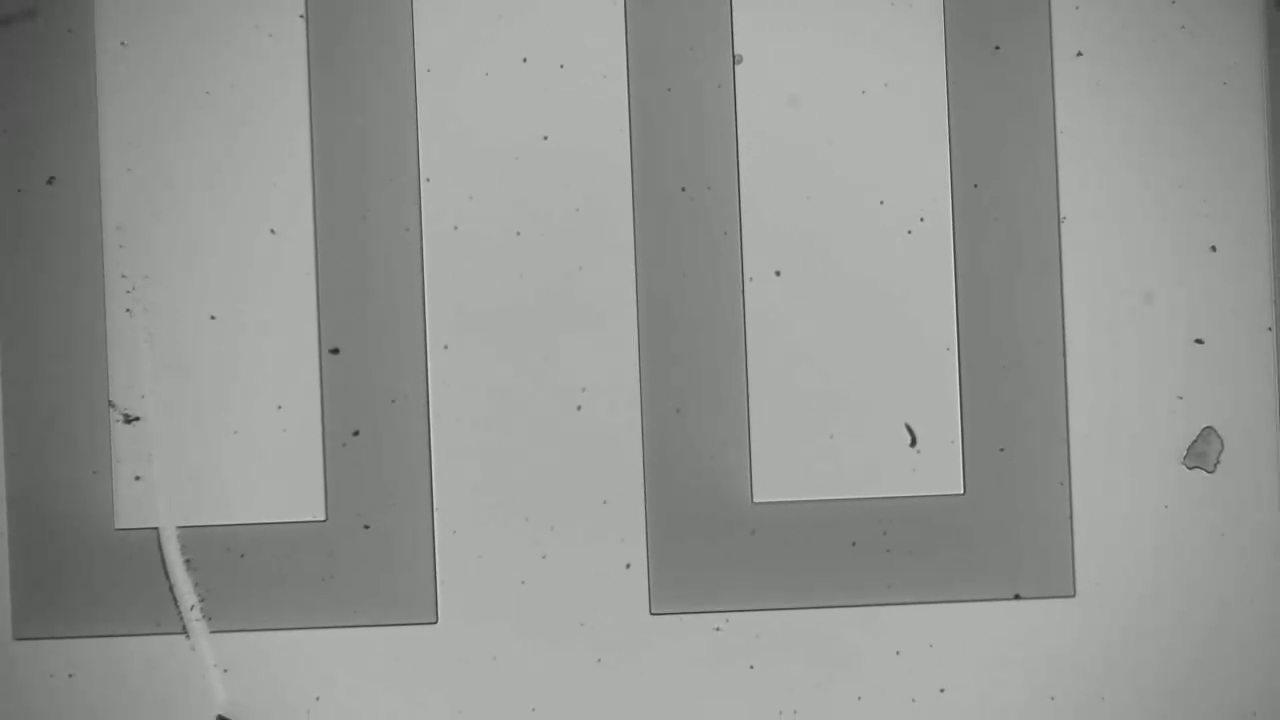Short_circuit: (130, 495, 241, 670)
